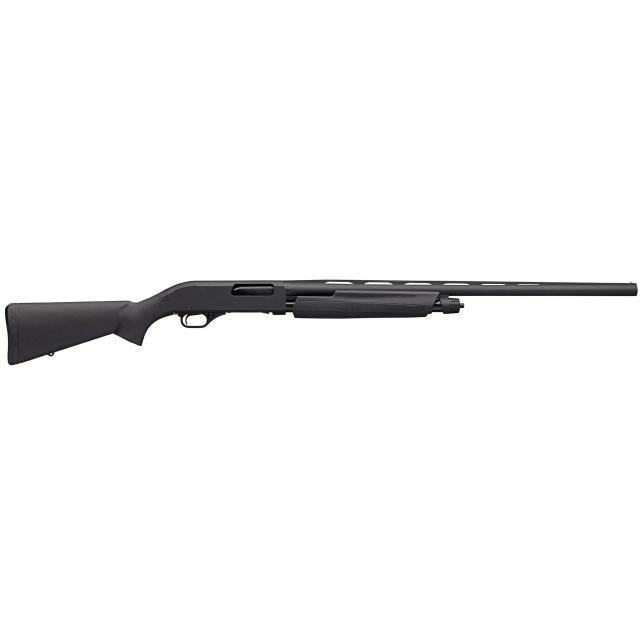weapon: (5, 268, 640, 372)
